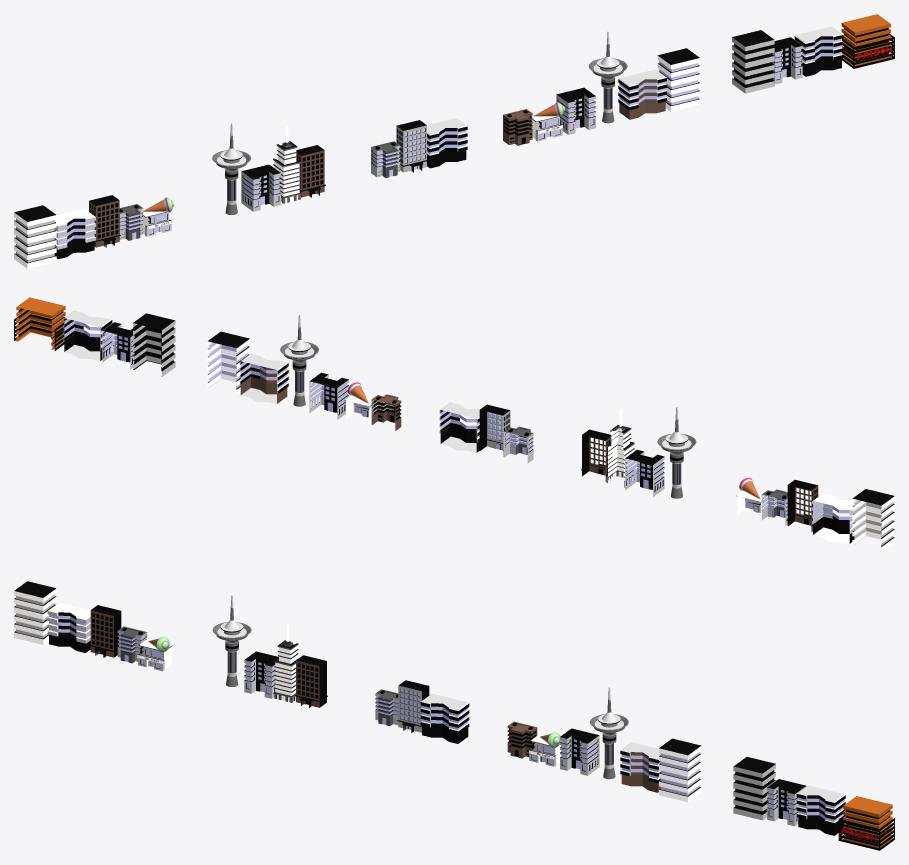
File: Buildings.glb
3 renders of one model, top to bottom at view 1: azimuth 30°, elevation 25°; view 2: azimuth 150°, elevation 25°; view 3: azimuth 330°, elevation 25°, orthographic.
Parts seen in each view (by area): view 1: Cube.003, Cube.006, Cube.007, Cube.004, Cube, Cube.005, Cube.001, Cube.002, 5, 5.001, 7.002, 6 (+10 smaller); view 2: Cube.006, Cube.003, Cube, Cube.007, Cube.004, Cube.005, Cube.002, Cube.001, 5, 5.001, 7.002, 6 (+10 smaller); view 3: Cube.007, Cube.004, Cube.006, Cube.003, Cube.001, Cube.005, Cube.002, Cube, 5.001, 7.001, 7, 5.002 (+10 smaller).
Part boxes in pixels (x1,y1,x2,y2): Cube.003: (14, 205, 56, 268); Cube.006: (732, 30, 774, 93); Cube.007: (841, 14, 894, 68); Cube.004: (657, 48, 699, 111); Cube: (618, 69, 666, 119); Cube.005: (794, 26, 843, 76); Cube.001: (427, 118, 467, 168); Cube.002: (54, 209, 95, 259); 5: (241, 164, 280, 211); 5.001: (556, 87, 595, 134); 7.002: (396, 120, 428, 172); 6: (273, 125, 300, 203); Cube.006: (133, 313, 175, 376); Cube.003: (852, 489, 894, 552); Cube: (240, 353, 288, 403); Cube.007: (14, 297, 65, 350); Cube.004: (207, 331, 249, 394); Cube.005: (63, 310, 112, 360); Cube.002: (812, 493, 854, 543); Cube.001: (439, 402, 479, 452); 5: (625, 450, 664, 496); 5.001: (309, 372, 348, 419); 7.002: (478, 404, 510, 456); 6: (606, 409, 634, 487); Cube.007: (838, 796, 894, 850); Cube.004: (659, 738, 701, 801); Cube.006: (733, 757, 775, 820); Cube.003: (14, 581, 56, 644); Cube.001: (420, 693, 469, 743); Cube.005: (796, 785, 845, 835); Cube.002: (47, 602, 90, 652); Cube: (620, 742, 660, 792); 5.001: (560, 728, 599, 775); 7.001: (295, 655, 327, 707); 7: (89, 605, 121, 657); 5.002: (767, 779, 806, 826).
Bounding box in the file's own units: 329 × 32.32 × 12.83.
